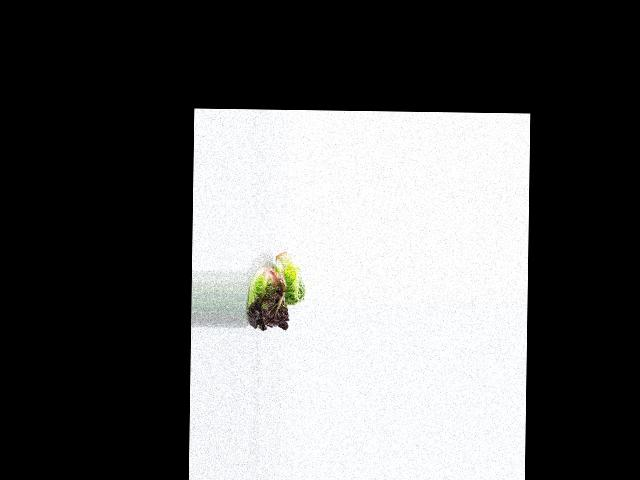lettuce: (272, 249, 306, 306)
